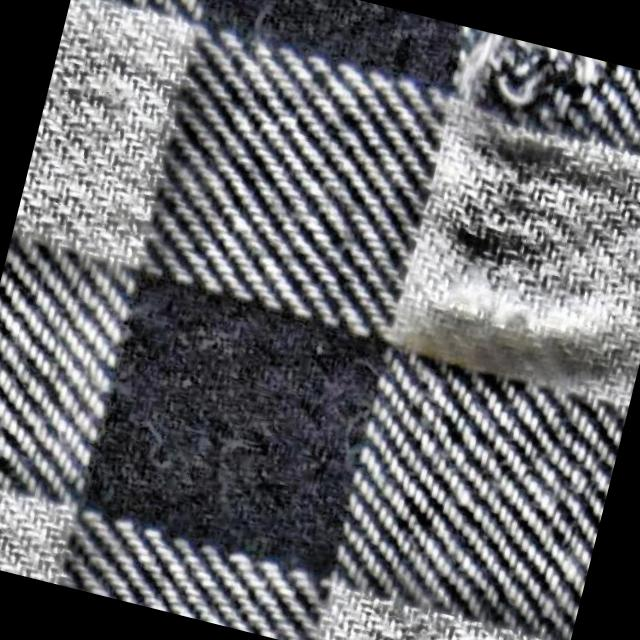selvet: (458, 30, 612, 124)
